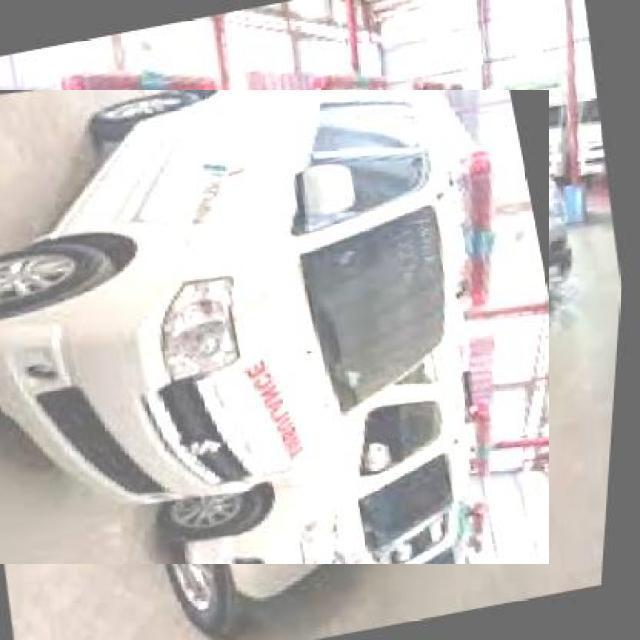emergency-vehicle: (0, 52, 511, 602)
